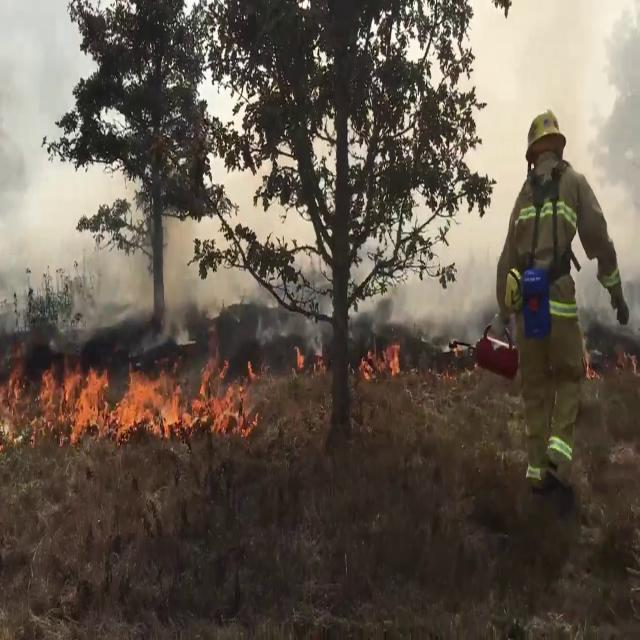Fire: (0, 347, 261, 437), (358, 334, 406, 382), (292, 340, 308, 376)
Smoke: (2, 155, 310, 335)
